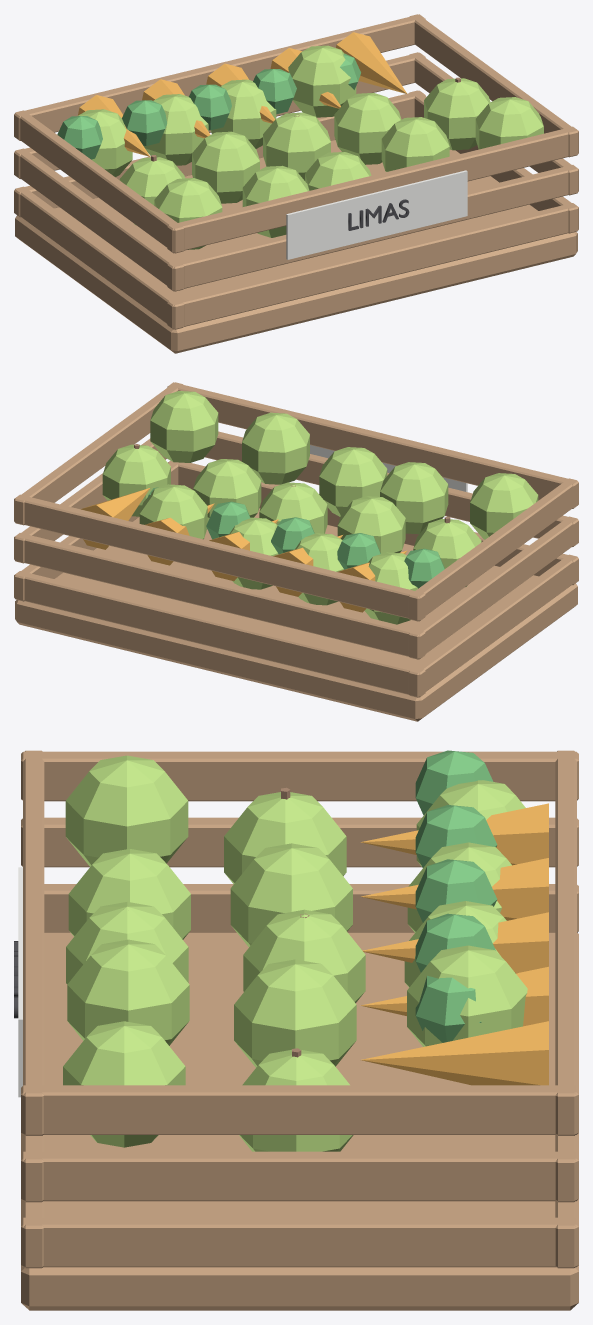
The model's file is Caja_Verduras.fbx.
3 renders of one model, top to bottom at view 1: azimuth 30°, elevation 25°; view 2: azimuth 150°, elevation 25°; view 3: azimuth 270°, elevation 25°, orthographic. The views are drawn at different scales.
Parts seen in each view (by area): view 1: Caja_Verduras | Suelo caja, Caja_Verduras | Liston caja, Caja_Verduras | Liston caja.002, Caja_Verduras | Etiqueta caja, Caja_Verduras | Liston caja.001, Caja_Verduras | Liston caja.005, Caja_Verduras | Liston caja.006, Caja_Verduras | Liston caja.008, Caja_Verduras | Liston caja.007, Caja_Verduras | Liston caja.011, Caja_Verduras | Limas.006, Caja_Verduras | Limas.008 (+26 smaller); view 2: Caja_Verduras | Suelo caja, Caja_Verduras | Liston caja.004, Caja_Verduras | Liston caja.003, Caja_Verduras | Liston caja.005, Caja_Verduras | Liston caja.002, Caja_Verduras | Liston caja.006, Caja_Verduras | Liston caja.007, Caja_Verduras | Liston caja.008, Caja_Verduras | Liston caja.011, Caja_Verduras | Limas.004, Caja_Verduras | Limas.003, Caja_Verduras | Limas.001 (+25 smaller); view 3: Caja_Verduras | Suelo caja, Caja_Verduras | Liston caja.010, Caja_Verduras | Liston caja.009, Caja_Verduras | Liston caja.011, Caja_Verduras | Liston caja.008, Caja_Verduras | Limas, Caja_Verduras | Limas.008, Caja_Verduras | Limas.003, Caja_Verduras | Liston caja.005, Caja_Verduras | Liston caja.002, Caja_Verduras | Limas.006, Caja_Verduras | Liston caja.007 (+26 smaller).
Part boxes in pixels (bbox=[...]): Caja_Verduras | Suelo caja: bbox=[15, 140, 577, 353]; Caja_Verduras | Liston caja: bbox=[167, 203, 578, 329]; Caja_Verduras | Liston caja.002: bbox=[167, 126, 578, 253]; Caja_Verduras | Etiqueta caja: bbox=[286, 170, 467, 259]; Caja_Verduras | Liston caja.001: bbox=[167, 165, 578, 291]; Caja_Verduras | Liston caja.005: bbox=[14, 14, 425, 140]; Caja_Verduras | Liston caja.006: bbox=[15, 186, 184, 329]; Caja_Verduras | Liston caja.008: bbox=[15, 110, 184, 253]; Caja_Verduras | Liston caja.007: bbox=[15, 148, 184, 291]; Caja_Verduras | Liston caja.011: bbox=[409, 14, 578, 157]; Caja_Verduras | Limas.006: bbox=[192, 131, 259, 203]; Caja_Verduras | Limas.008: bbox=[334, 92, 401, 164]; Caja_Verduras | Suelo caja: bbox=[15, 508, 577, 721]; Caja_Verduras | Liston caja.004: bbox=[14, 533, 425, 659]; Caja_Verduras | Liston caja.003: bbox=[14, 571, 425, 697]; Caja_Verduras | Liston caja.005: bbox=[14, 494, 425, 621]; Caja_Verduras | Liston caja.002: bbox=[167, 382, 578, 508]; Caja_Verduras | Liston caja.006: bbox=[408, 554, 577, 697]; Caja_Verduras | Liston caja.007: bbox=[408, 516, 577, 659]; Caja_Verduras | Liston caja.008: bbox=[408, 478, 577, 621]; Caja_Verduras | Liston caja.011: bbox=[14, 382, 183, 525]; Caja_Verduras | Limas.004: bbox=[150, 391, 218, 462]; Caja_Verduras | Limas.003: bbox=[242, 412, 309, 484]; Caja_Verduras | Limas.001: bbox=[380, 462, 448, 534]; Caja_Verduras | Suelo caja: bbox=[21, 932, 578, 1310]; Caja_Verduras | Liston caja.010: bbox=[21, 1151, 578, 1201]; Caja_Verduras | Liston caja.009: bbox=[21, 1217, 578, 1267]; Caja_Verduras | Liston caja.011: bbox=[21, 1085, 578, 1134]; Caja_Verduras | Liston caja.008: bbox=[21, 751, 578, 801]; Caja_Verduras | Limas: bbox=[65, 755, 188, 866]; Caja_Verduras | Limas.008: bbox=[234, 959, 356, 1067]; Caja_Verduras | Limas.003: bbox=[67, 939, 189, 1045]; Caja_Verduras | Liston caja.005: bbox=[555, 750, 576, 1135]; Caja_Verduras | Liston caja.002: bbox=[23, 750, 44, 1135]; Caja_Verduras | Limas.006: bbox=[230, 843, 352, 946]; Caja_Verduras | Liston caja.007: bbox=[21, 817, 578, 867].
Size of the model in its own units: 0.95 by 0.3297 by 0.658.
